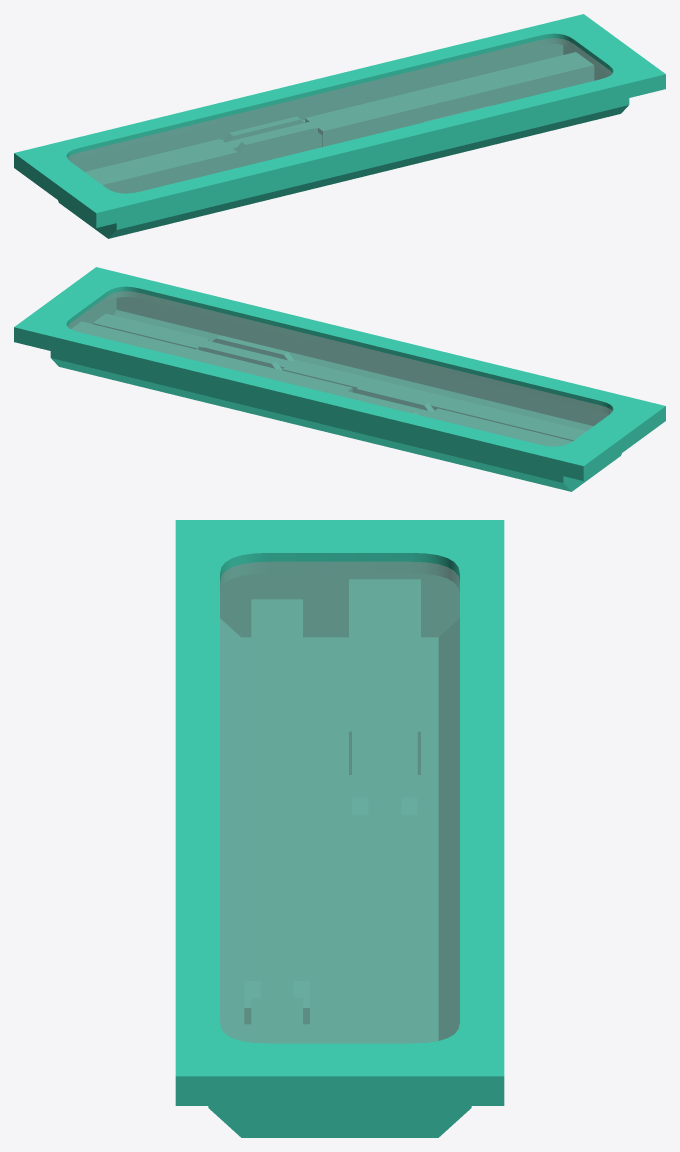
File: Floor_A_4x1m.FBX
3 views of the same model, one above another, from view 1: azimuth 30°, elevation 25°; view 2: azimuth 150°, elevation 25°; view 3: azimuth 270°, elevation 25° (orthographic). The views are drawn at different scales.
Parts seen in each view (by area): view 1: Floor_A_4x1m; view 2: Floor_A_4x1m; view 3: Floor_A_4x1m.
Part boxes in pixels (bbox=[...]): Floor_A_4x1m: bbox=[14, 14, 665, 238]; Floor_A_4x1m: bbox=[14, 267, 665, 491]; Floor_A_4x1m: bbox=[175, 520, 504, 1137].
Size of the model in its own units: 400 by 30 by 100.
